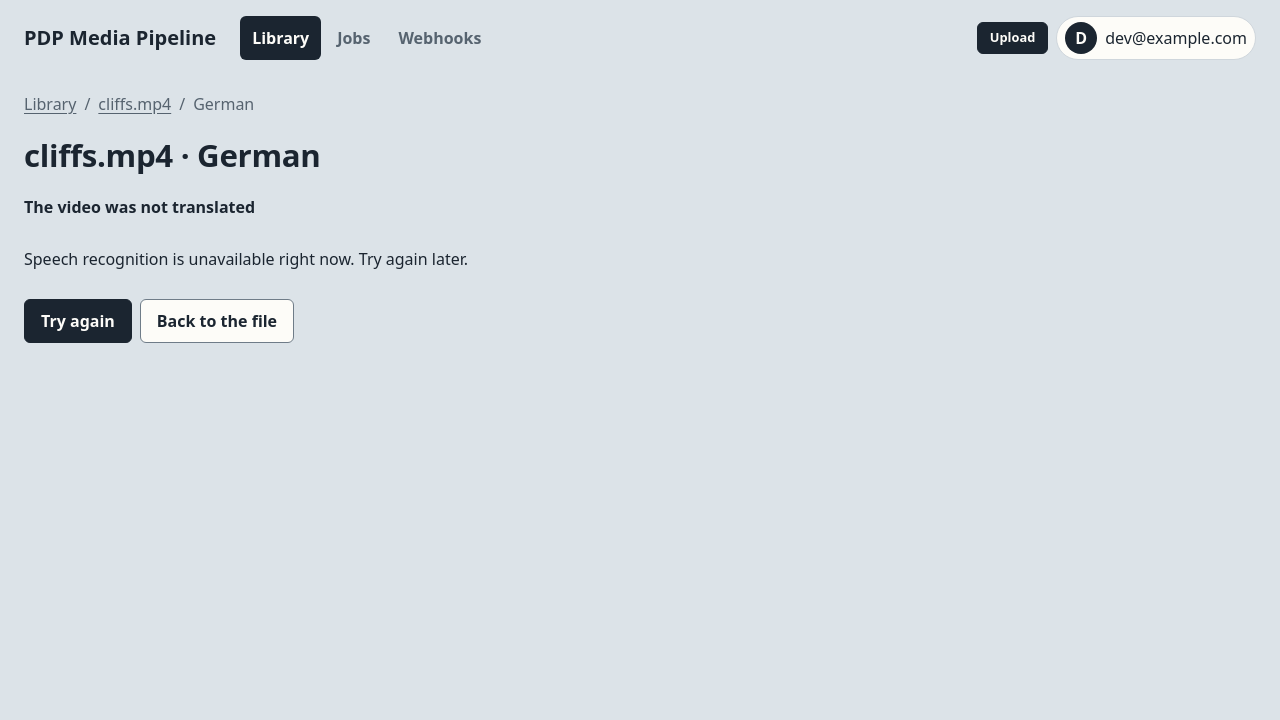
Scenario: dub page › starts the same dub again after an outage and opens it
Click the button "Try again": (78, 321) [24,299,132,343]
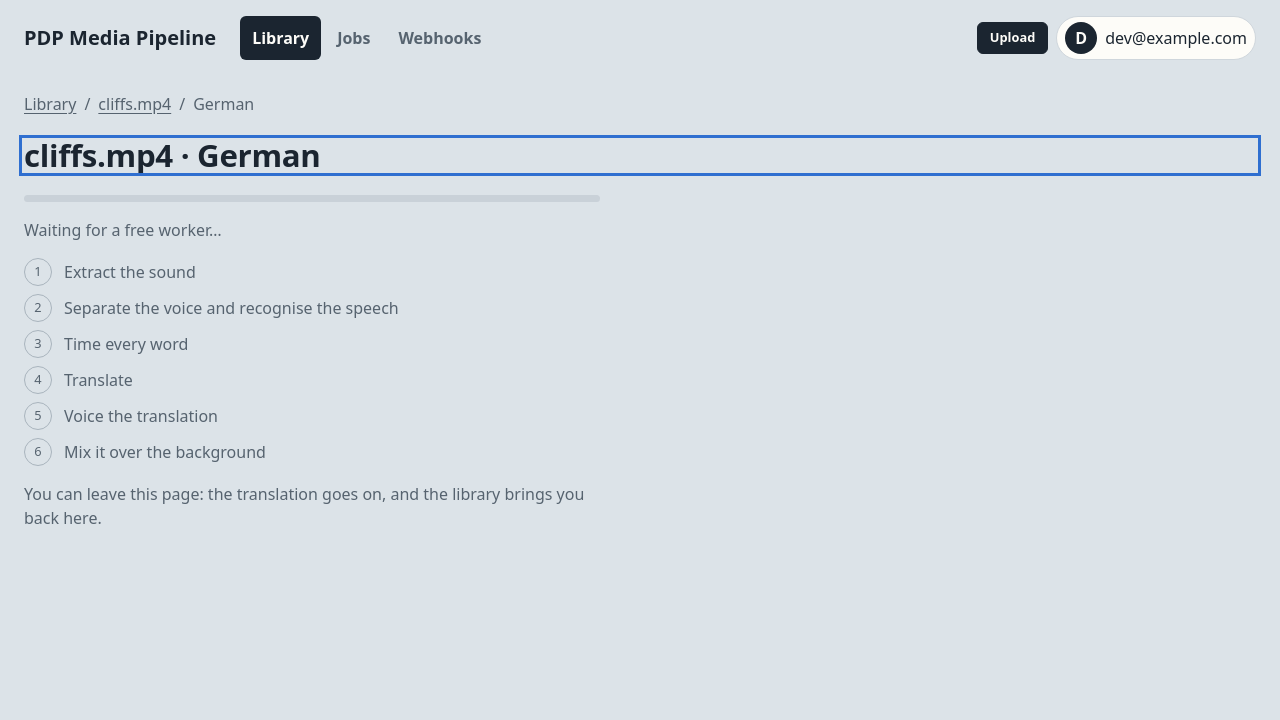
Check: the text "Waiting for a free worker…" is shown, box [24,219,222,241]
